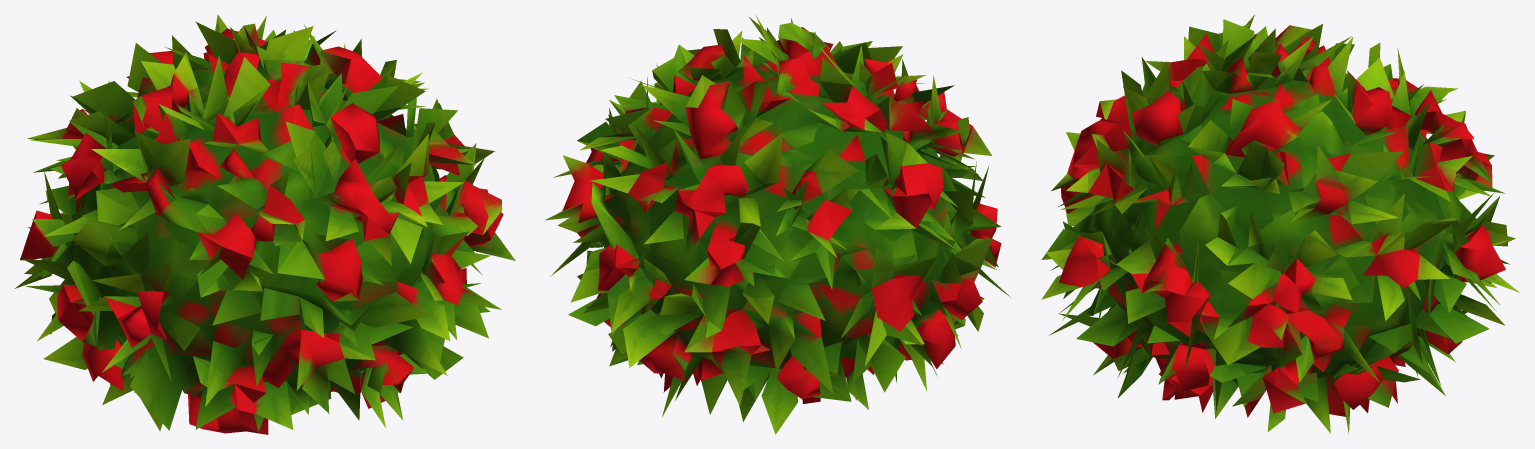
Rendered from bush_holly.glb.
3 renders of one model, left to right at view 1: azimuth 30°, elevation 25°; view 2: azimuth 150°, elevation 25°; view 3: azimuth 270°, elevation 25°, orthographic. The views are drawn at different scales.
Parts seen in each view (by area): view 1: tripo_node_b5307874-c6f6-4a91-8210-03721b882229; view 2: tripo_node_b5307874-c6f6-4a91-8210-03721b882229; view 3: tripo_node_b5307874-c6f6-4a91-8210-03721b882229.
Part boxes in pixels (x1=…): tripo_node_b5307874-c6f6-4a91-8210-03721b882229: x1=14, y1=14, x2=515, y2=434; tripo_node_b5307874-c6f6-4a91-8210-03721b882229: x1=545, y1=15, x2=1010, y2=434; tripo_node_b5307874-c6f6-4a91-8210-03721b882229: x1=1041, y1=15, x2=1519, y2=433.
Bounding box in the file's own units: 0.9973 × 0.7849 × 0.9881.
1 material, 1 textured.
